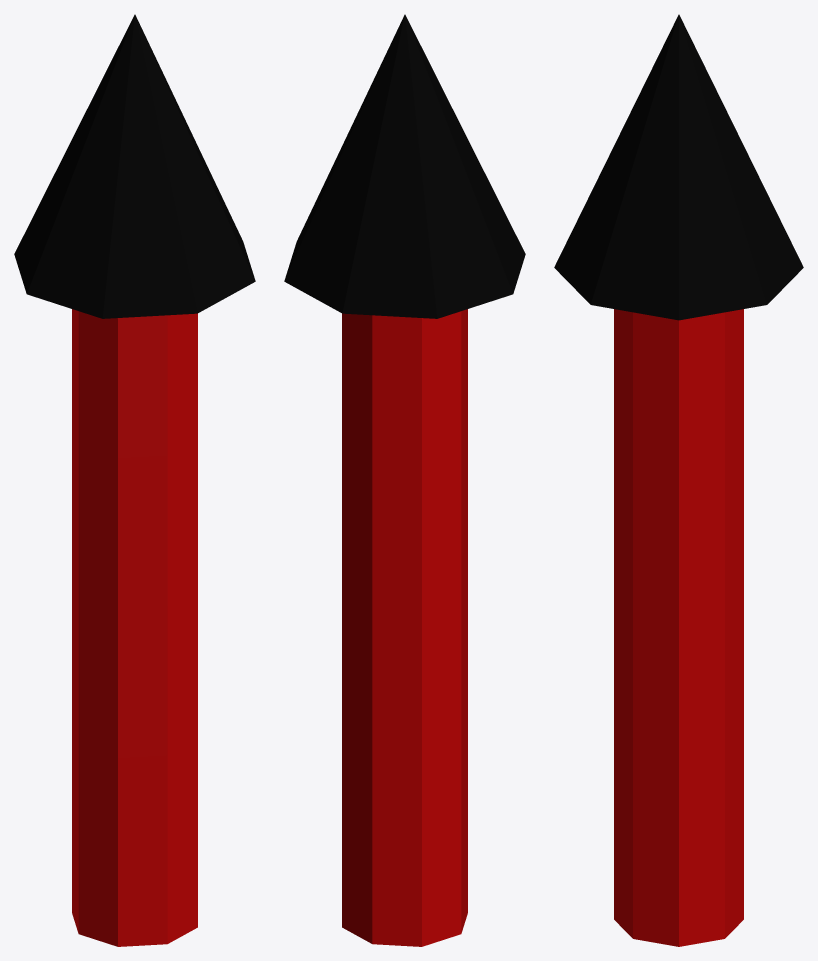
File: arrow.fbx
3 renders of one model, left to right at view 1: azimuth 30°, elevation 25°; view 2: azimuth 150°, elevation 25°; view 3: azimuth 270°, elevation 25°, orthographic.
Parts seen in each view (by area): view 1: Cylinder; view 2: Cylinder; view 3: Cylinder.
Boxes of the visible parts, x1,y1,x2,y2 form: Cylinder: (14, 14, 255, 946); Cylinder: (284, 14, 525, 946); Cylinder: (554, 14, 803, 946).
Bounding box in the file's own units: 25 × 100 × 25.
